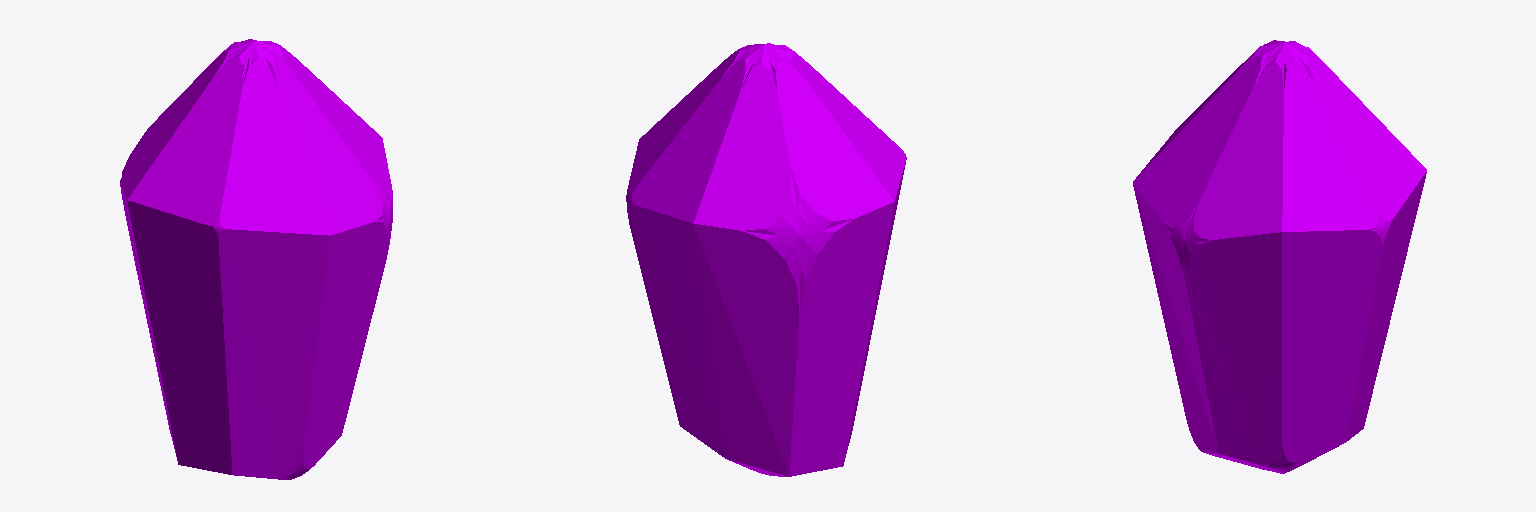
The model's file is CRYSTAL2.obj.
3 views of the same model, side by side, from view 1: azimuth 30°, elevation 25°; view 2: azimuth 150°, elevation 25°; view 3: azimuth 270°, elevation 25° (orthographic).
Parts seen in each view (by area): view 1: Cube; view 2: Cube; view 3: Cube.
Boxes of the visible parts, <box> form: Cube: <box>120,39,392,479</box>; Cube: <box>626,43,906,476</box>; Cube: <box>1133,40,1426,473</box>.
Size of the model in its own units: 2.85 by 4.54 by 2.85.